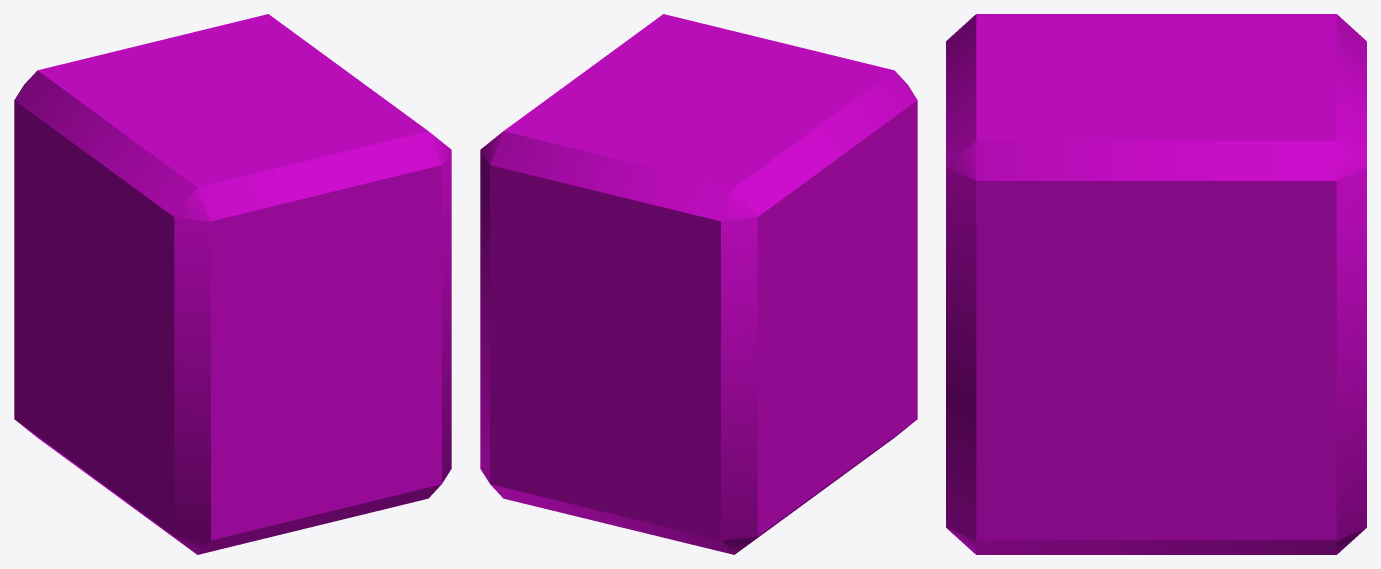
The model's file is Destructable.fbx.
3 views of the same model, side by side, from view 1: azimuth 30°, elevation 25°; view 2: azimuth 150°, elevation 25°; view 3: azimuth 270°, elevation 25° (orthographic). The views are drawn at different scales.
Parts seen in each view (by area): view 1: Destructable; view 2: Destructable; view 3: Destructable.
Boxes of the visible parts, bbox=[...] form: Destructable: bbox=[14, 14, 451, 554]; Destructable: bbox=[480, 14, 917, 554]; Destructable: bbox=[946, 14, 1366, 554].
Size of the model in its own units: 300 by 380 by 350.
